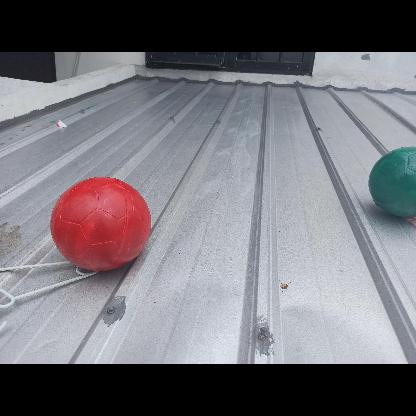red_ball: (50, 172, 152, 272)
